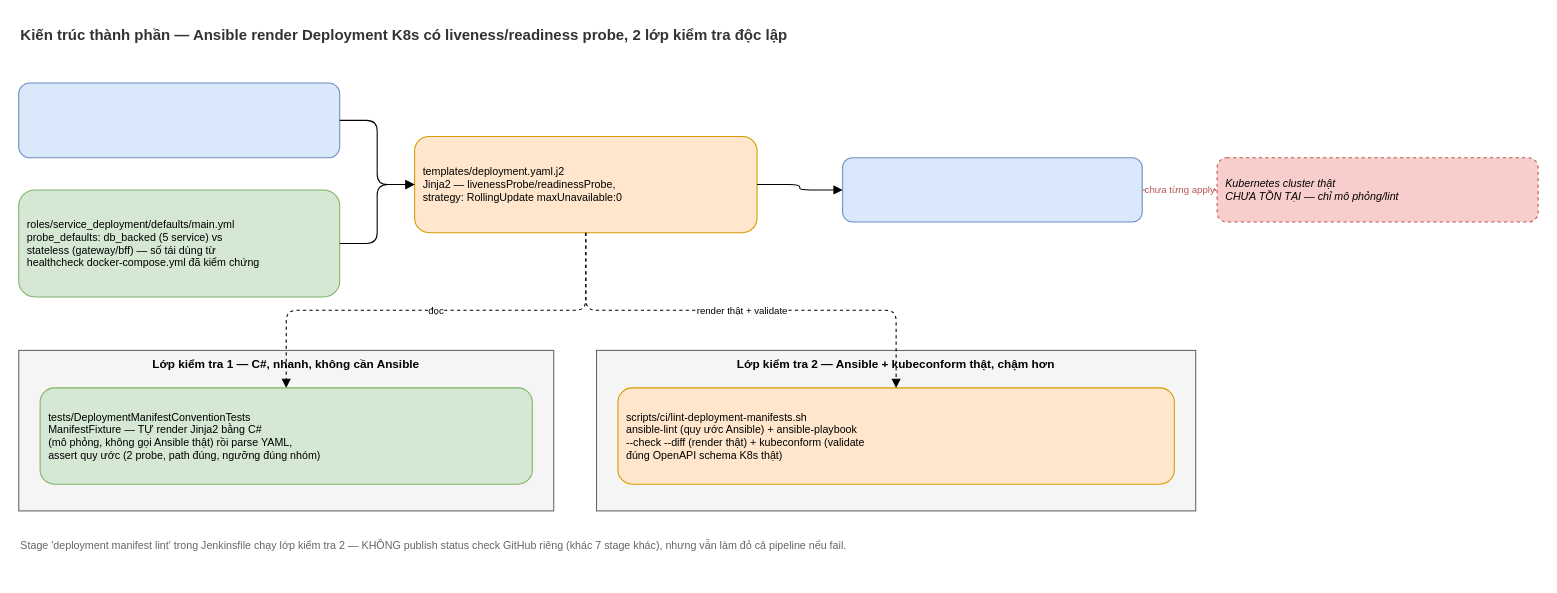
Image size: 1557x593. Some labels were removed from this diagram. The centre of each missing label's shape, as x and y in pixels:
deploy/ansible/inventories/services.yml 7 service + override riêng (nếu có): point (179, 120)
Deployment K8s đã render (YAML thật cho từng service): point (992, 189)
